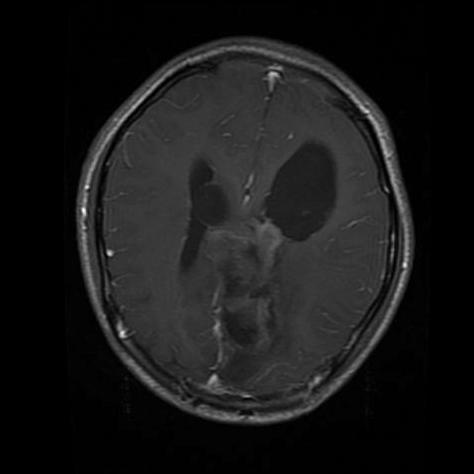Tumour-Glioma: (204, 267, 284, 365)
